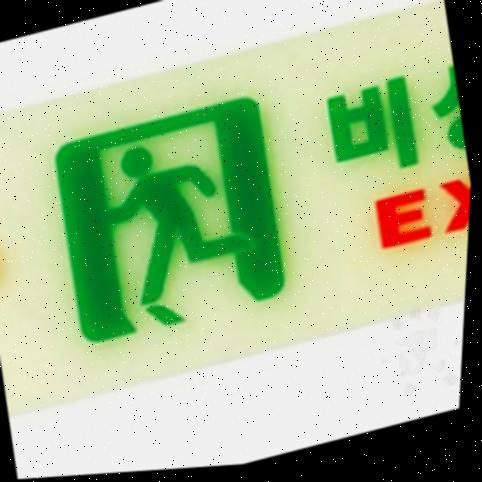emergency_exit: (1, 1, 473, 479), (53, 95, 286, 344)
